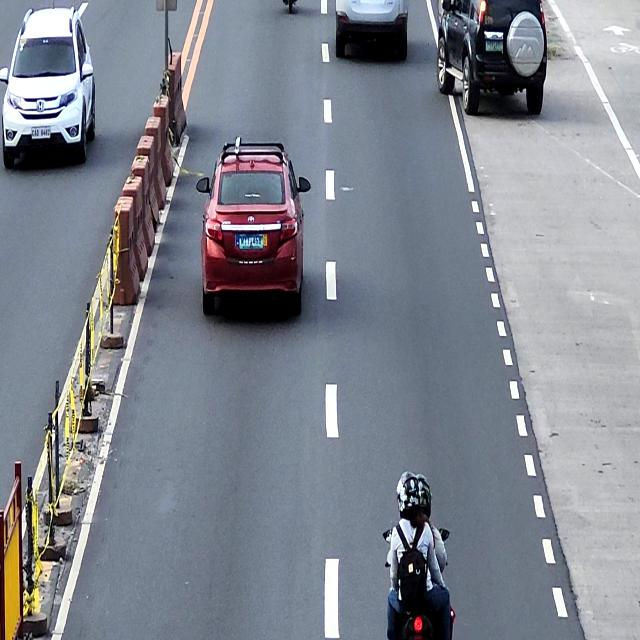Car: (196, 136, 310, 316), (0, 1, 96, 168), (437, 0, 548, 116), (334, 0, 409, 60)
License-Plate: (238, 232, 265, 252), (31, 126, 51, 140), (485, 40, 504, 52)
Motorcycle: (382, 526, 455, 638)
